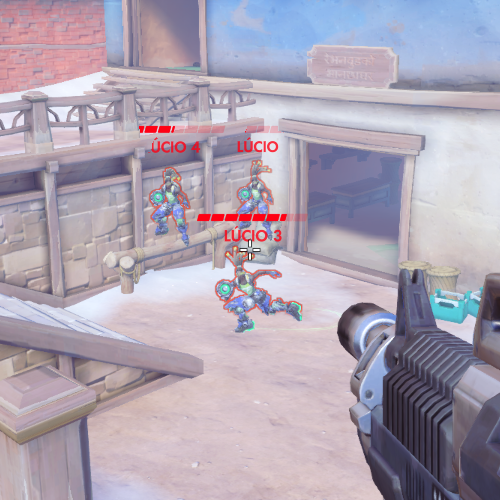hpbar: (196, 213, 308, 222), (138, 125, 226, 133), (245, 126, 279, 133)
